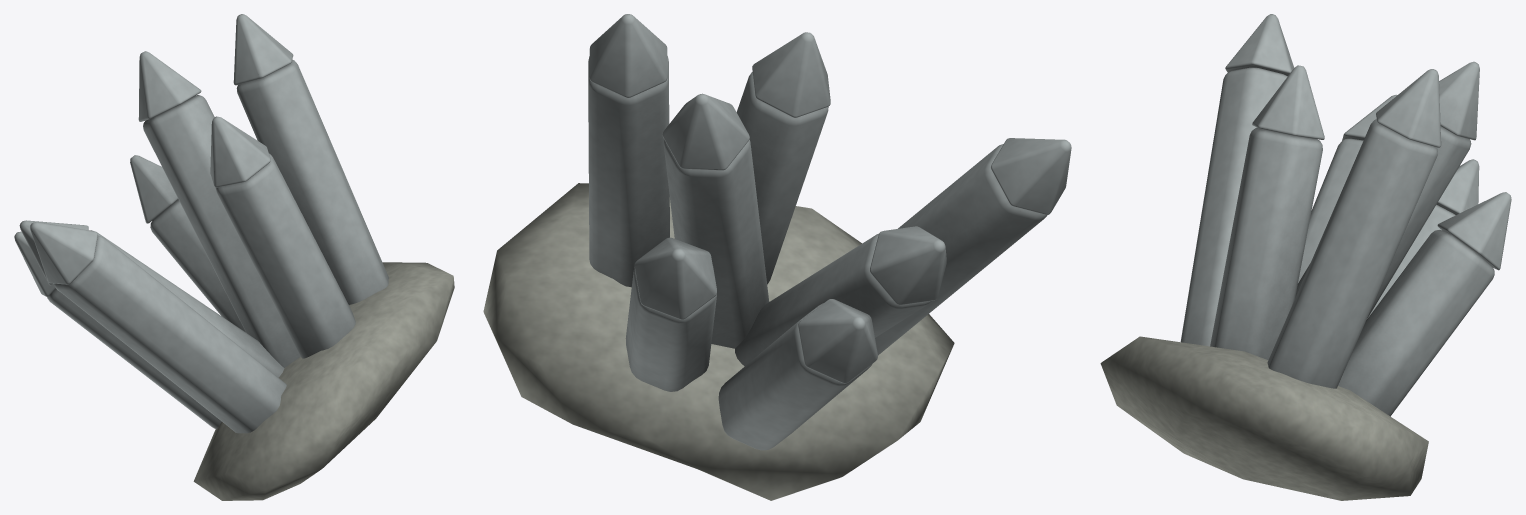
The picture shows the model from 3 angles, left to right: view 1: azimuth 30°, elevation 25°; view 2: azimuth 150°, elevation 25°; view 3: azimuth 270°, elevation 25°; orthographic projection. The views are drawn at different scales.
Parts seen in each view (by area): view 1: Mineral growth base; view 2: Mineral growth base; view 3: Mineral growth base.
Part boxes in pixels (x1,y1,x2,y2): Mineral growth base: (14,14,454,500); Mineral growth base: (483,14,1071,500); Mineral growth base: (1100,14,1511,500).
Size of the model in its own units: 1.26 by 1.15 by 0.9424.
1 material, 1 textured.
